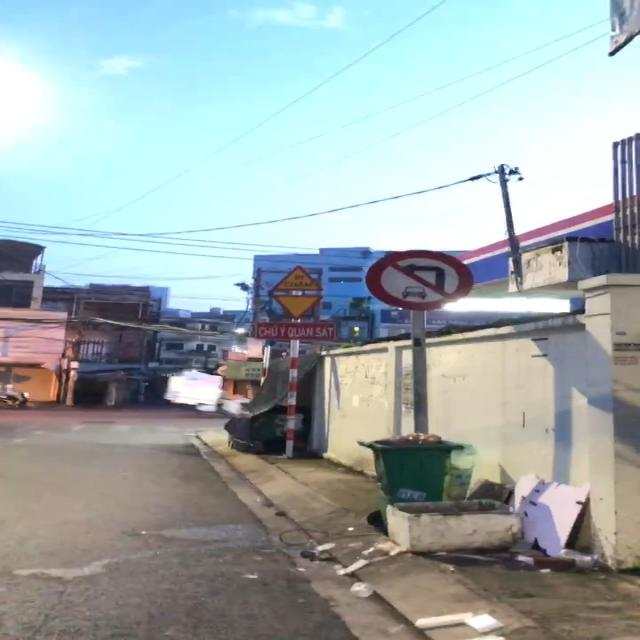Bien bao di cham: (267, 262, 327, 293)
Bien bao giao nhau voi duong uu tien: (260, 294, 324, 332)
